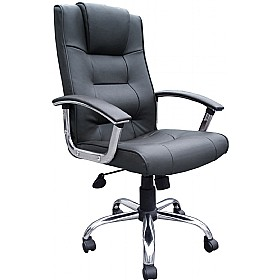chairs: (50, 1, 231, 280)
